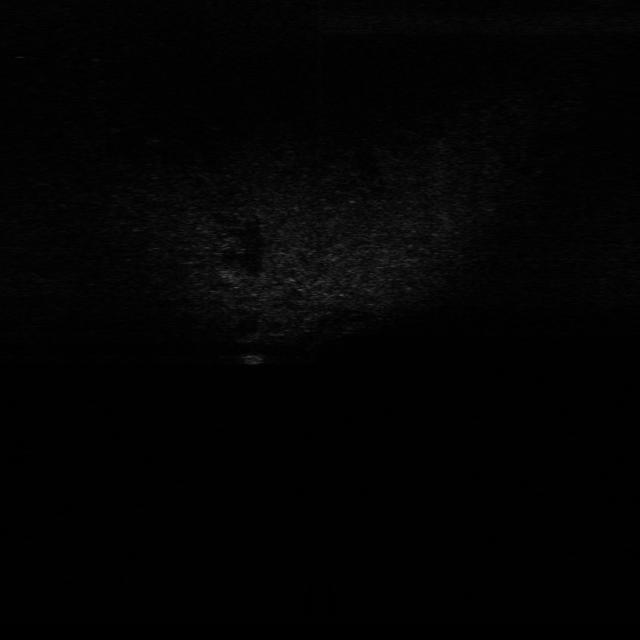cube: (242, 345, 267, 370)
